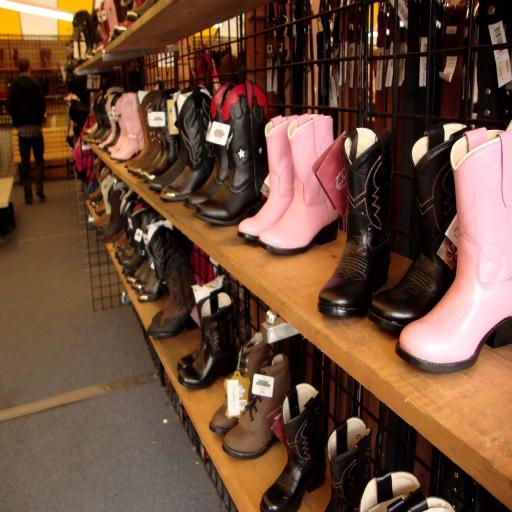boots: (396, 128, 512, 373), (367, 123, 467, 334), (318, 128, 392, 317), (258, 114, 338, 254), (196, 80, 268, 225), (238, 115, 309, 241), (259, 382, 326, 512), (222, 354, 290, 459), (160, 85, 215, 202), (184, 84, 234, 210), (209, 332, 269, 435), (178, 292, 238, 389), (150, 86, 198, 193), (177, 276, 226, 372), (148, 242, 194, 339), (326, 417, 372, 512), (359, 471, 455, 512), (139, 90, 179, 184), (134, 218, 176, 302), (126, 90, 162, 175), (110, 93, 144, 161), (120, 207, 148, 276), (101, 182, 124, 243), (98, 94, 120, 150)
